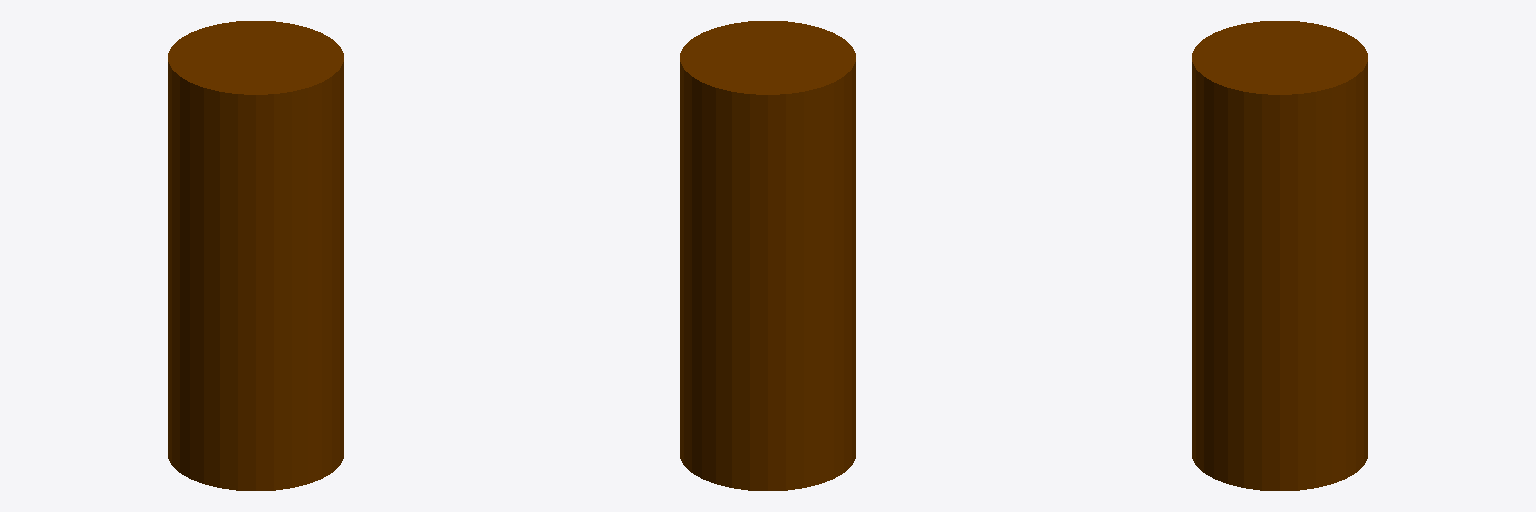
robot.urdf — Medium_Short_Circle_Brown:
<?xml version="1.0"?>
<robot name="Medium_Short_Circle_Brown">
    <link name="Medium_Short_Circle_Brown">
        <visual>
            <geometry>
                <mesh filename="../mesh/factory_insertion/Medium_Short_Circle_Brown.obj" scale="0.001 0.001 0.001"/>
            </geometry>
            <material name="Brown">
              <color rgba="0.46 0.25 0 0"/>
            </material>
        </visual>
        <collision>
            <geometry>
                <mesh filename="../mesh/factory_insertion/Medium_Short_Circle_Brown.obj" scale="0.001 0.001 0.001"/>
            </geometry>
            <sdf resolution="512"/>
        </collision>
    </link>
</robot>

--- What the picture shows (computed from the rendered views, not written in the file) ---
Views: 3 orthographic renders of the robot side by side, from view 1: azimuth 30°, elevation 25°; view 2: azimuth 150°, elevation 25°; view 3: azimuth 270°, elevation 25°.
Robot: Medium_Short_Circle_Brown — 1 links, 0 joints (none); root link Medium_Short_Circle_Brown; default pose: every joint at zero.
Links seen in each view (by area): view 1: Medium_Short_Circle_Brown; view 2: Medium_Short_Circle_Brown; view 3: Medium_Short_Circle_Brown.
Link boxes in pixels (x1,y1,x2,y2): Medium_Short_Circle_Brown: (168, 21, 343, 490); Medium_Short_Circle_Brown: (680, 21, 855, 490); Medium_Short_Circle_Brown: (1192, 21, 1367, 490).
Size in the robot's own frame: 0.0403 by 0.0401 by 0.1 metres.
Meshes: 1 distinct files referenced, 1 mesh visuals loaded (1 OBJ).
